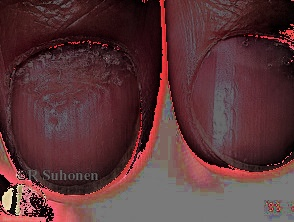Nail_psoriasis: (0, 3, 150, 148), (217, 4, 294, 90)
